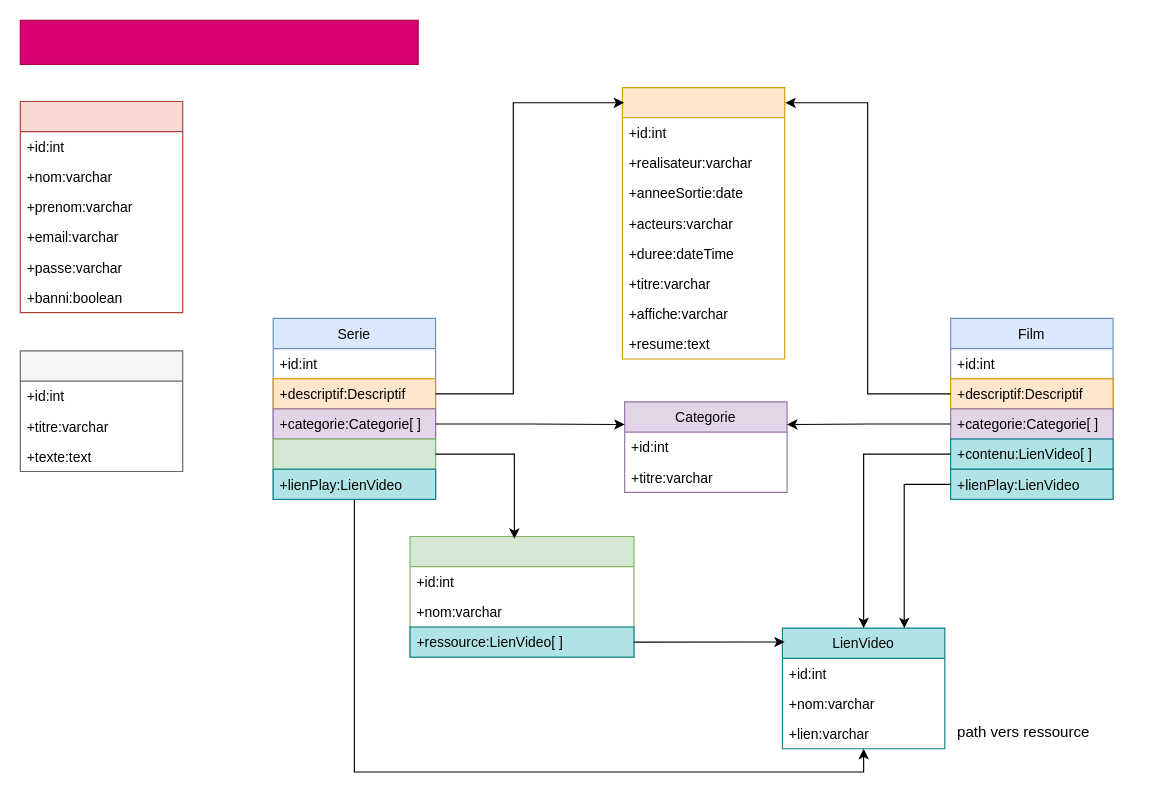
The diagram is 1162 pixels wide and 802 high, and some of its shapes have lost their labels. Each missing label, with the box of its shape:
+saisons:Saisons [ ]: (272, 438, 436, 469)
Descriptif: (621, 86, 785, 359)
Faq: (19, 350, 183, 472)
Projet fil rouge M.A.R.S. // UML Données BDD: (19, 19, 418, 64)
Saisons: (409, 535, 634, 657)
Utilisateur: (19, 100, 183, 313)
